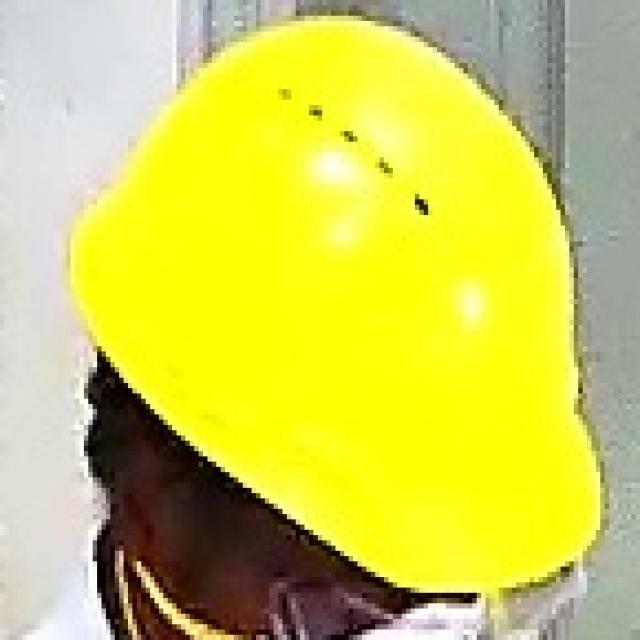yellow helmet: (75, 17, 604, 585)
